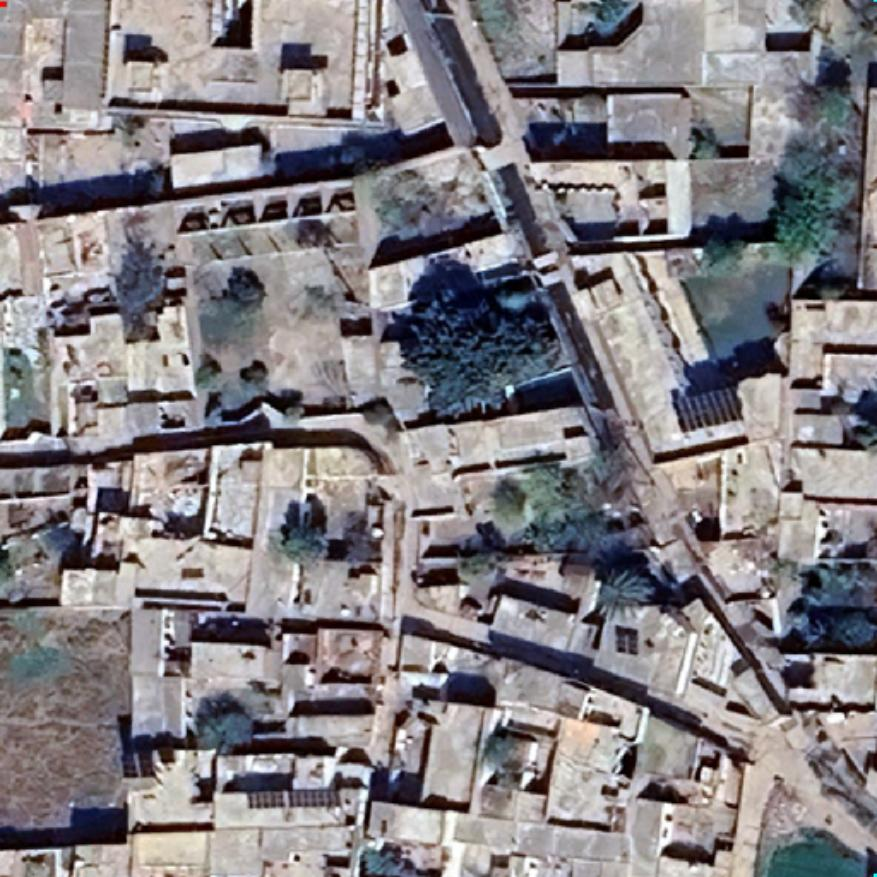Solarpanel: (668, 378, 750, 438), (242, 784, 346, 812), (612, 624, 642, 658)
